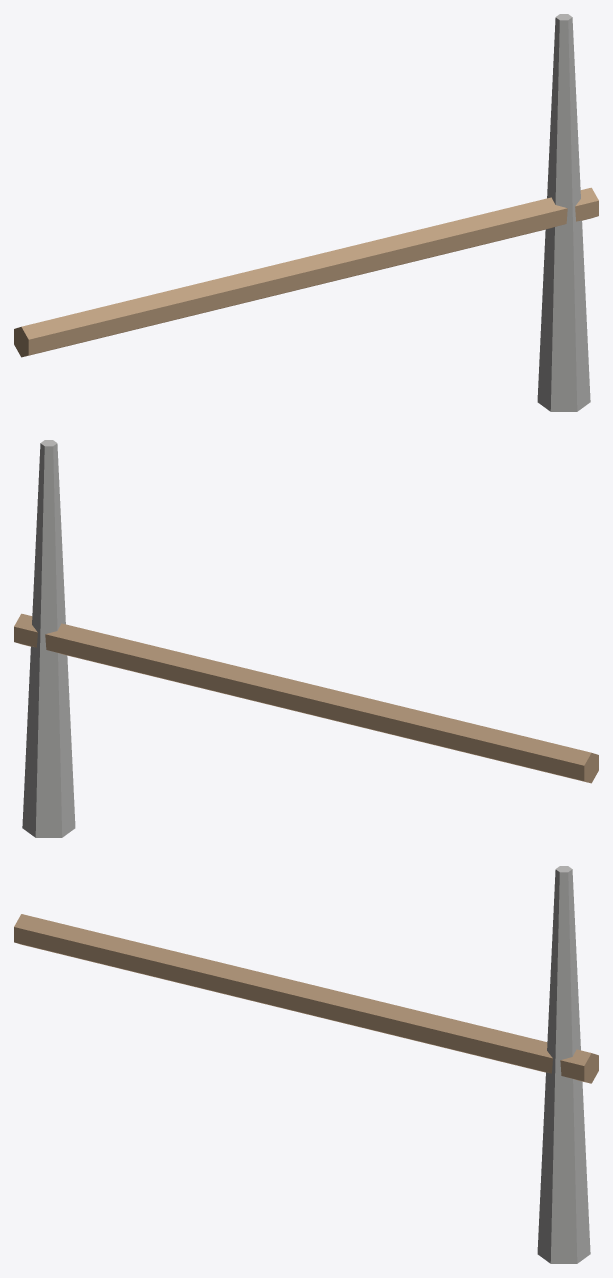
The model's file is held_tool_pickaxe.glb.
The picture shows the model from 3 angles, top to bottom: view 1: azimuth 30°, elevation 25°; view 2: azimuth 150°, elevation 25°; view 3: azimuth 330°, elevation 25°; orthographic projection.
Parts seen in each view (by area): view 1: held_tool_pickaxe; view 2: held_tool_pickaxe; view 3: held_tool_pickaxe.
Boxes of the visible parts, x1=… form: held_tool_pickaxe: x1=14, y1=14, x2=598, y2=411; held_tool_pickaxe: x1=14, y1=440, x2=598, y2=837; held_tool_pickaxe: x1=14, y1=866, x2=598, y2=1263.
Bounding box in the file's own units: 0.62 × 0.4 × 0.05.
